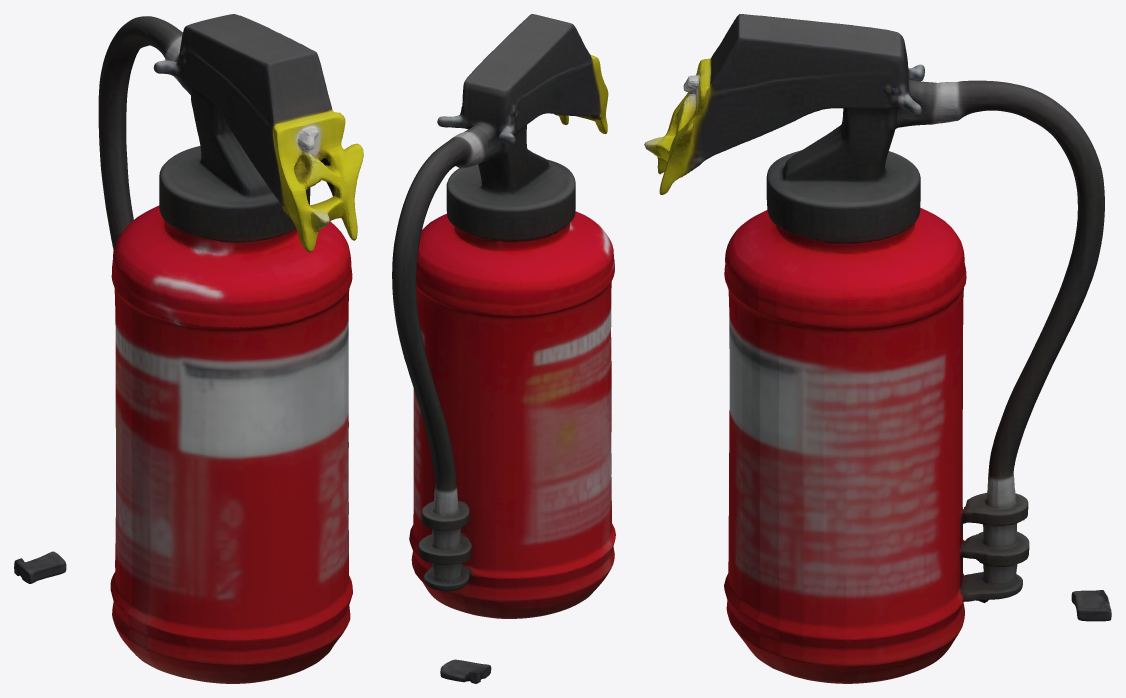
File: sam3d.glb
The picture shows the model from 3 angles, left to right: view 1: azimuth 30°, elevation 25°; view 2: azimuth 150°, elevation 25°; view 3: azimuth 270°, elevation 25°; orthographic projection. The views are drawn at different scales.
Parts seen in each view (by area): view 1: world; view 2: world; view 3: world.
Boxes of the visible parts, left/top/right/bottom form: world: left=14, top=14, right=363, bottom=683; world: left=392, top=14, right=615, bottom=683; world: left=644, top=14, right=1111, bottom=683.
Bounding box in the file's own units: 0.3482 × 0.9954 × 0.6743.
